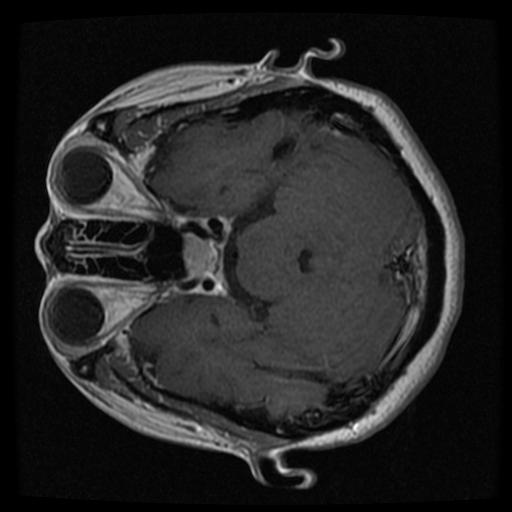pituitary tumour: (183, 234, 217, 278)
